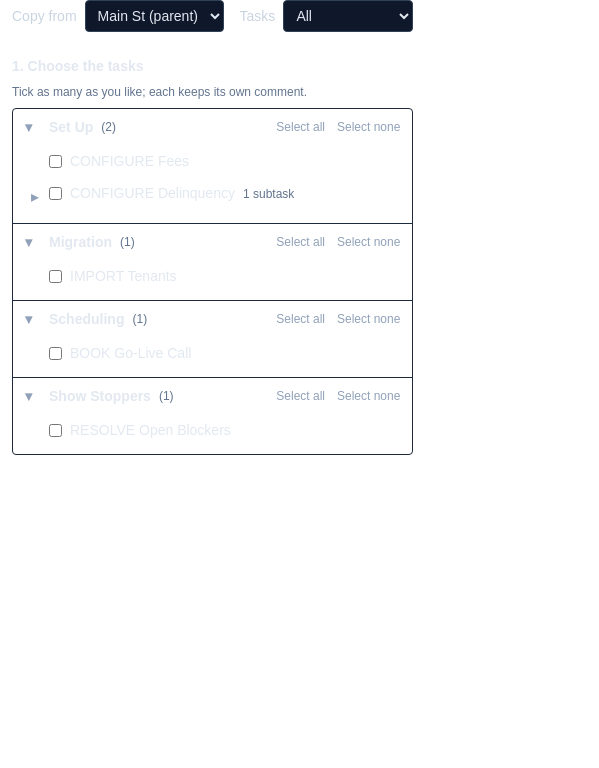
Test: BulkCopyPanel › says that a link to the source task is added to the bottom of the comment
Click the checkbox named "Copy from CONFIGURE Fees".
click(56, 162)  # box [49,155,62,168]
(page scrolled)
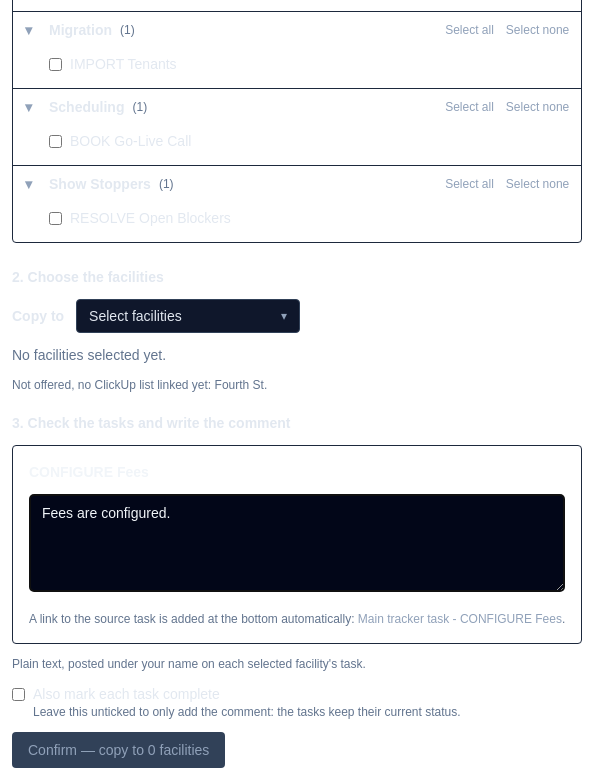
Result: the button "Select facilities ▾" is shown at [76,299,300,333]
Result: the text "Main tracker task - CONFIGURE Fees" is shown at [358,612,562,626]
